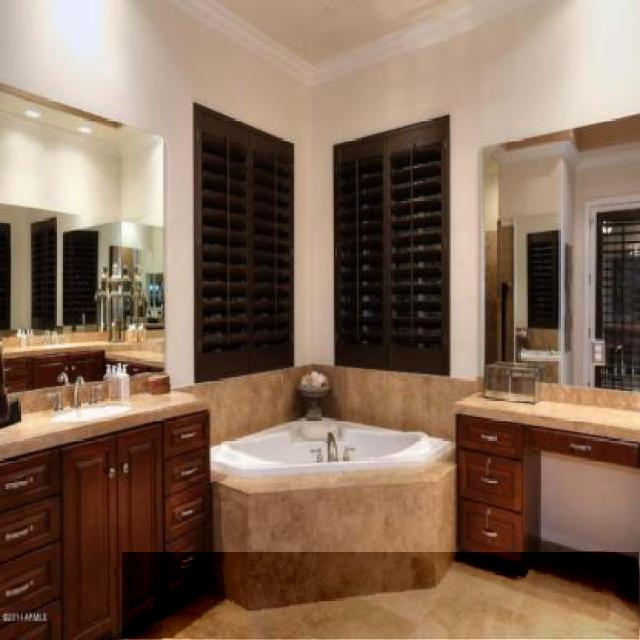floor: (124, 553, 640, 639)
